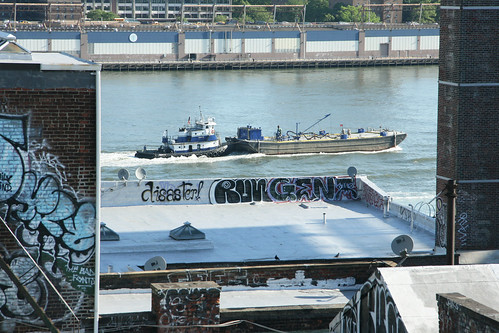boat: (231, 119, 411, 156), (133, 120, 234, 161)
graffiti: (1, 122, 97, 333), (207, 176, 361, 201), (137, 181, 206, 206)
river: (102, 64, 442, 186)
